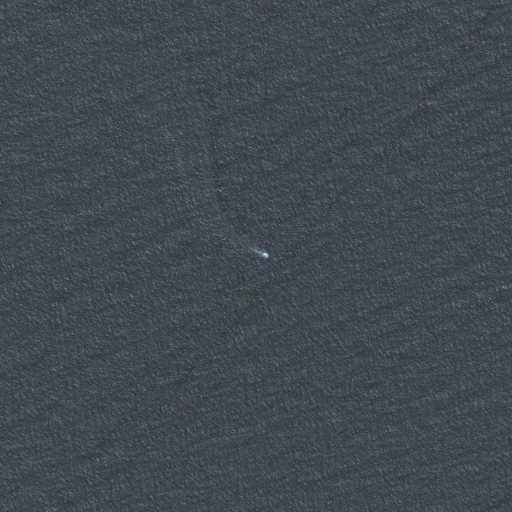ship: (261, 250, 270, 261)
